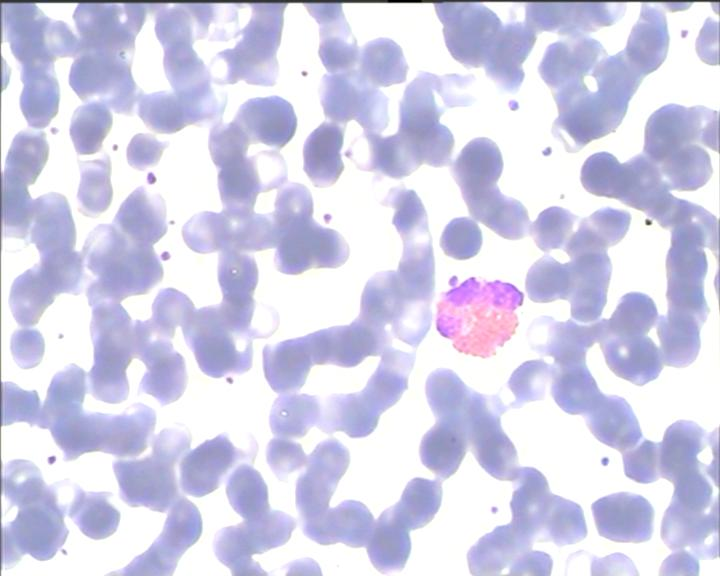eosi: (429, 270, 528, 358)
